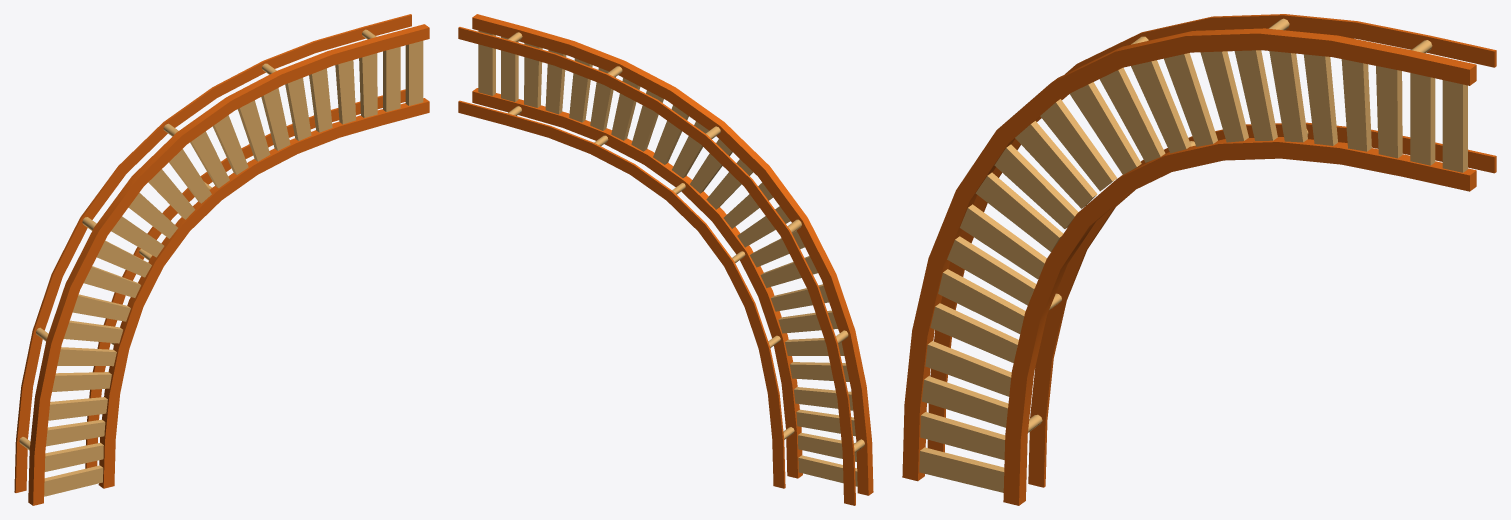
The model's file is PuenteCurva.fbx.
3 views of the same model, side by side, from view 1: azimuth 30°, elevation 25°; view 2: azimuth 150°, elevation 25°; view 3: azimuth 330°, elevation 25° (orthographic). The views are drawn at different scales.
Parts seen in each view (by area): view 1: Cube.002; view 2: Cube.002; view 3: Cube.002.
Part boxes in pixels (x1,y1,x2,y2): Cube.002: (14, 14, 429, 505); Cube.002: (458, 14, 873, 505); Cube.002: (902, 14, 1496, 505).
Size of the model in its own units: 1285 by 1182 by 105.
